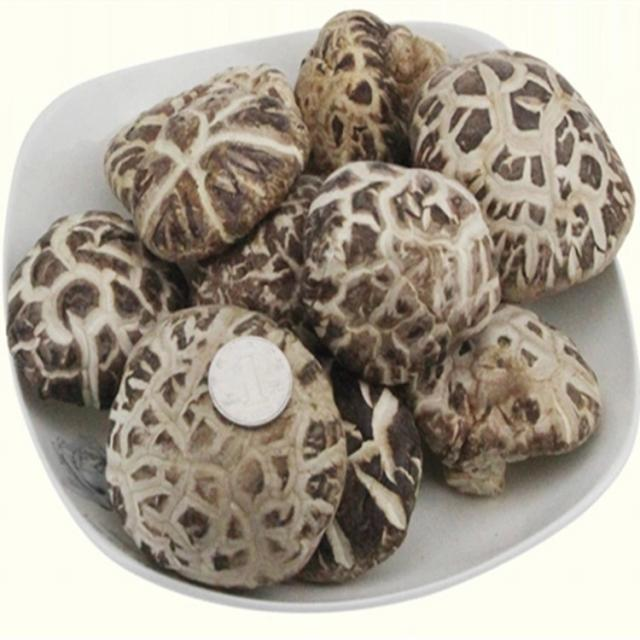Lentinus edodes: (107, 304, 342, 594), (407, 56, 640, 291), (101, 67, 307, 261), (319, 161, 495, 375), (419, 306, 606, 493), (10, 211, 180, 408), (286, 10, 435, 152)
